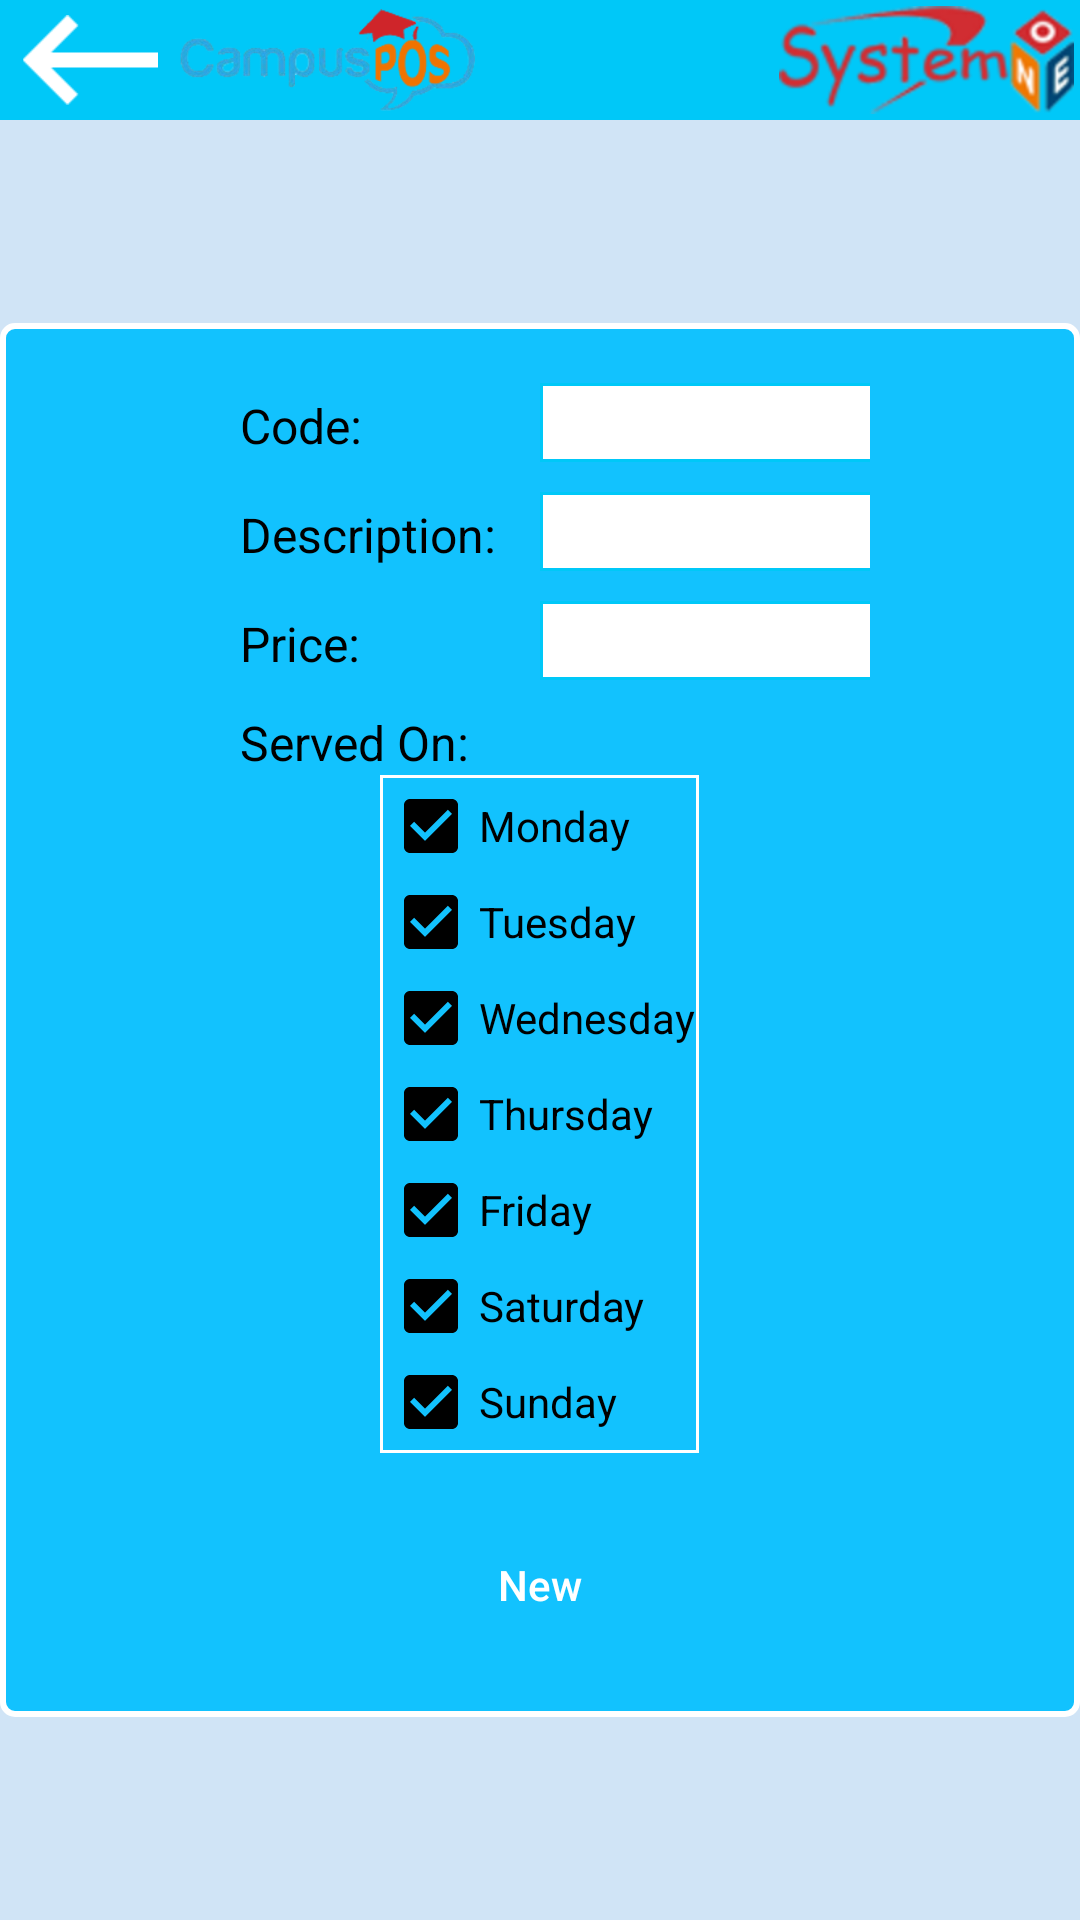

Point at icon controls on the screen. Image size 1080×1920, points as point (x, y).
back: point (90, 60)
